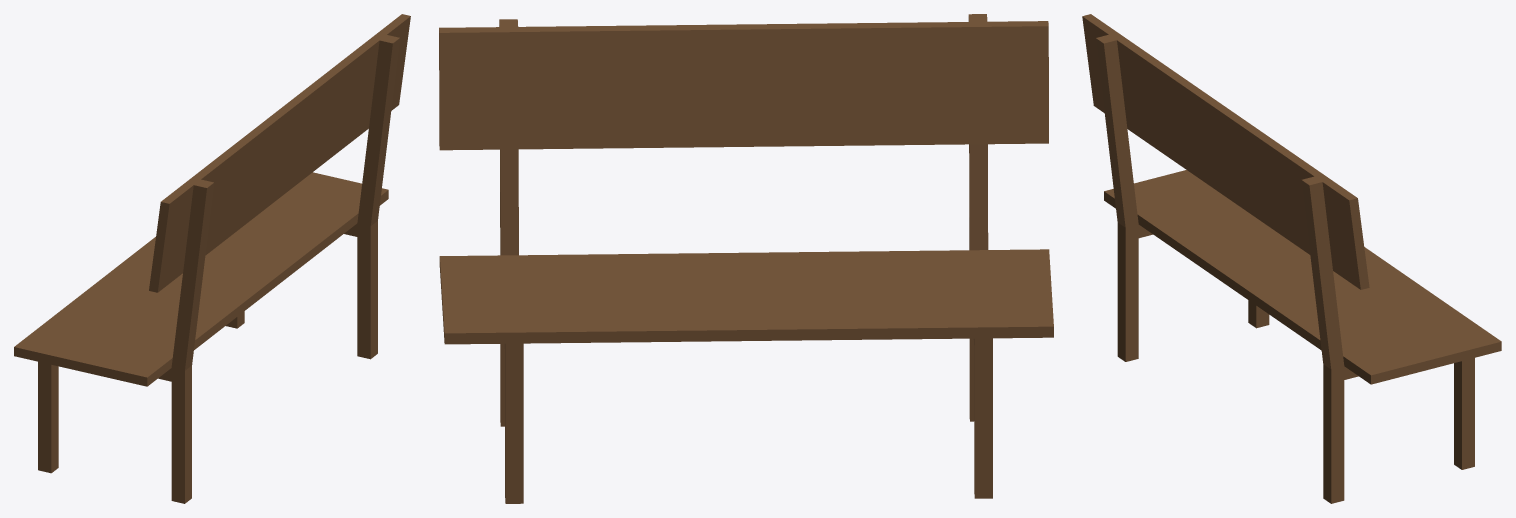
The model's file is Chair.fbx.
3 views of the same model, side by side, from view 1: azimuth 30°, elevation 25°; view 2: azimuth 150°, elevation 25°; view 3: azimuth 270°, elevation 25° (orthographic). The views are drawn at different scales.
Parts seen in each view (by area): view 1: Bench_1__15_; view 2: Bench_1__15_; view 3: Bench_1__15_.
Part boxes in pixels (left/top/right/bottom): Bench_1__15_: left=14, top=14, right=410, bottom=503; Bench_1__15_: left=439, top=14, right=1053, bottom=503; Bench_1__15_: left=1082, top=14, right=1501, bottom=503.
Bounding box in the file's own units: 414 × 280 × 328.
